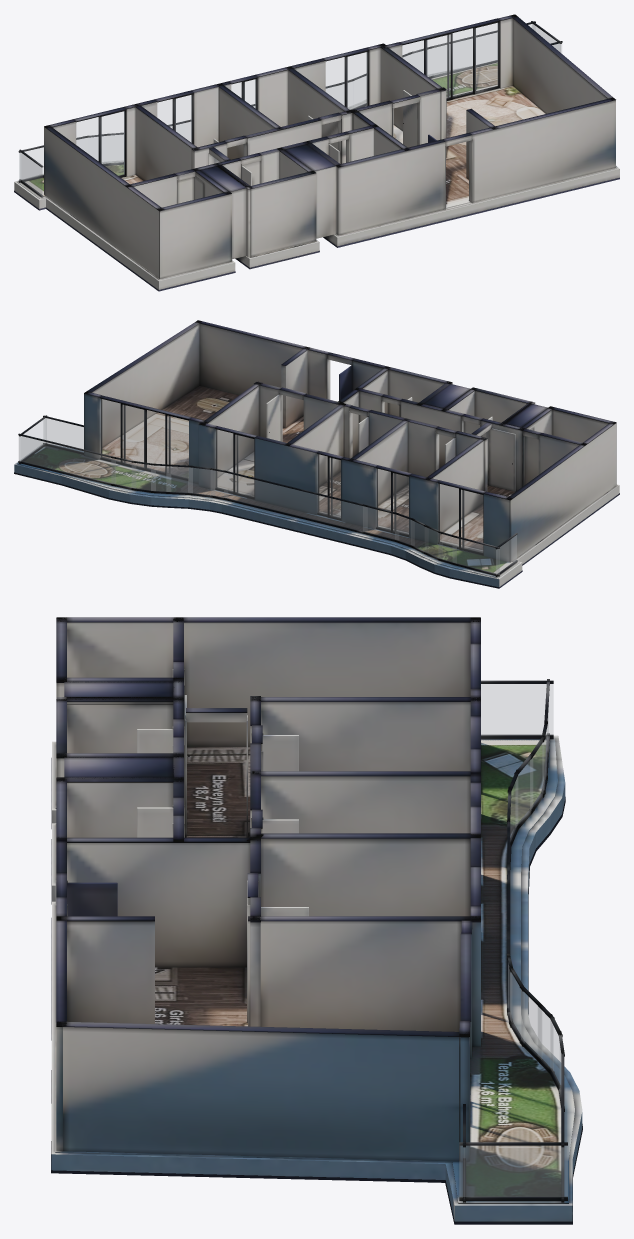
3 views of the same model, one above another, from view 1: azimuth 30°, elevation 25°; view 2: azimuth 150°, elevation 25°; view 3: azimuth 270°, elevation 25° (orthographic). The views are drawn at different scales.
Parts seen in each view (by area): view 1: plan, glass4_m, glass0_m, glass3_m, railg0_m, glass1_m, railg16_m, railg4_m, glass2_m; view 2: plan, glass4_m, railg1_m, railg0_m, glass0_m, glass3_m, glass1_m, railg16_m, glass2_m, railg2_m, railg11_m, railg8_m (+11 smaller); view 3: plan, railg3_m, railg4_m, railg8_m, railg13_m.
Boxes of the visible parts, x1,y1,x2,y2 form: plan: (14,14,619,291); glass4_m: (402,23,497,98); glass0_m: (76,111,124,175); glass3_m: (326,52,367,109); railg0_m: (434,24,534,74); glass1_m: (157,95,191,142); railg16_m: (19,147,43,180); railg4_m: (20,153,42,194); glass2_m: (231,79,255,108); plan: (14,320,619,588); glass4_m: (101,399,188,477); railg1_m: (224,472,367,532); railg0_m: (19,436,115,484); glass0_m: (438,484,482,552); glass3_m: (216,429,253,496); glass1_m: (376,469,408,534); railg16_m: (453,537,499,574); glass2_m: (318,454,340,517); railg2_m: (44,418,83,452); railg11_m: (363,506,398,540); railg8_m: (166,466,192,492); plan: (51,617,582,1224); railg3_m: (459,1146,567,1196); railg4_m: (481,684,553,735); railg8_m: (521,990,541,1059); railg13_m: (516,758,532,826).
Size of the model in its own units: 18.23 by 2.62 by 8.72.
2 materials, 1 textured.
